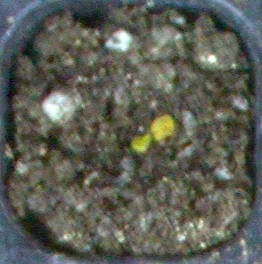chilli seed: (150, 113, 174, 141), (129, 133, 150, 152)
